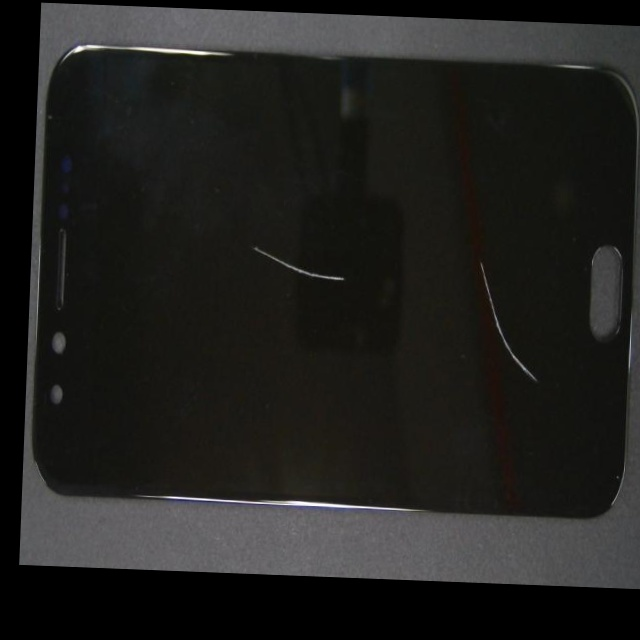scratch: (179, 154, 516, 421), (314, 259, 640, 497)
